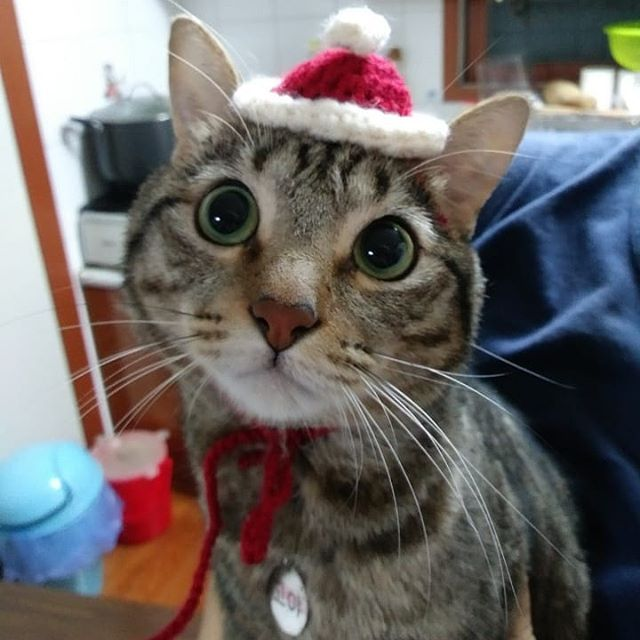cat: (129, 4, 532, 447)
